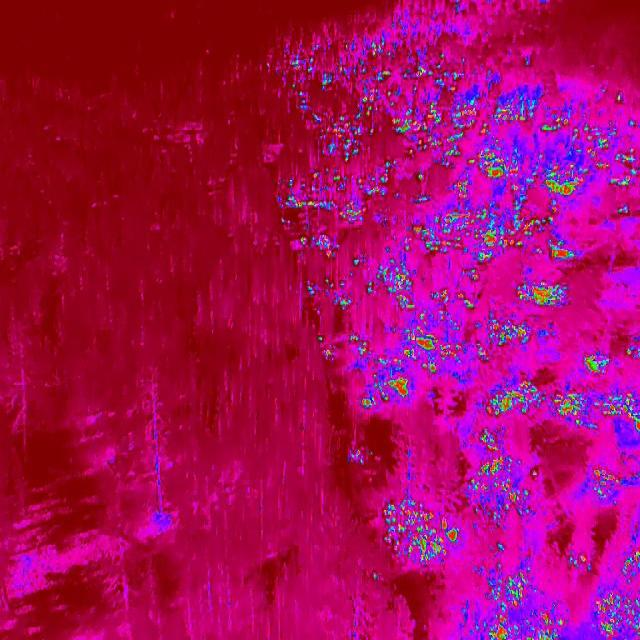fire: (286, 36, 477, 166), (479, 98, 640, 202), (349, 312, 480, 422), (275, 172, 413, 250), (483, 370, 640, 438), (414, 206, 578, 266), (381, 496, 464, 566), (482, 571, 564, 640), (468, 430, 530, 514), (350, 257, 432, 313), (512, 274, 577, 314), (430, 270, 491, 312), (592, 590, 640, 640), (298, 279, 358, 319), (481, 320, 534, 352), (590, 464, 620, 504), (577, 345, 614, 376), (561, 546, 595, 576), (617, 544, 640, 584), (314, 333, 338, 365), (451, 178, 476, 204), (491, 540, 508, 554)
